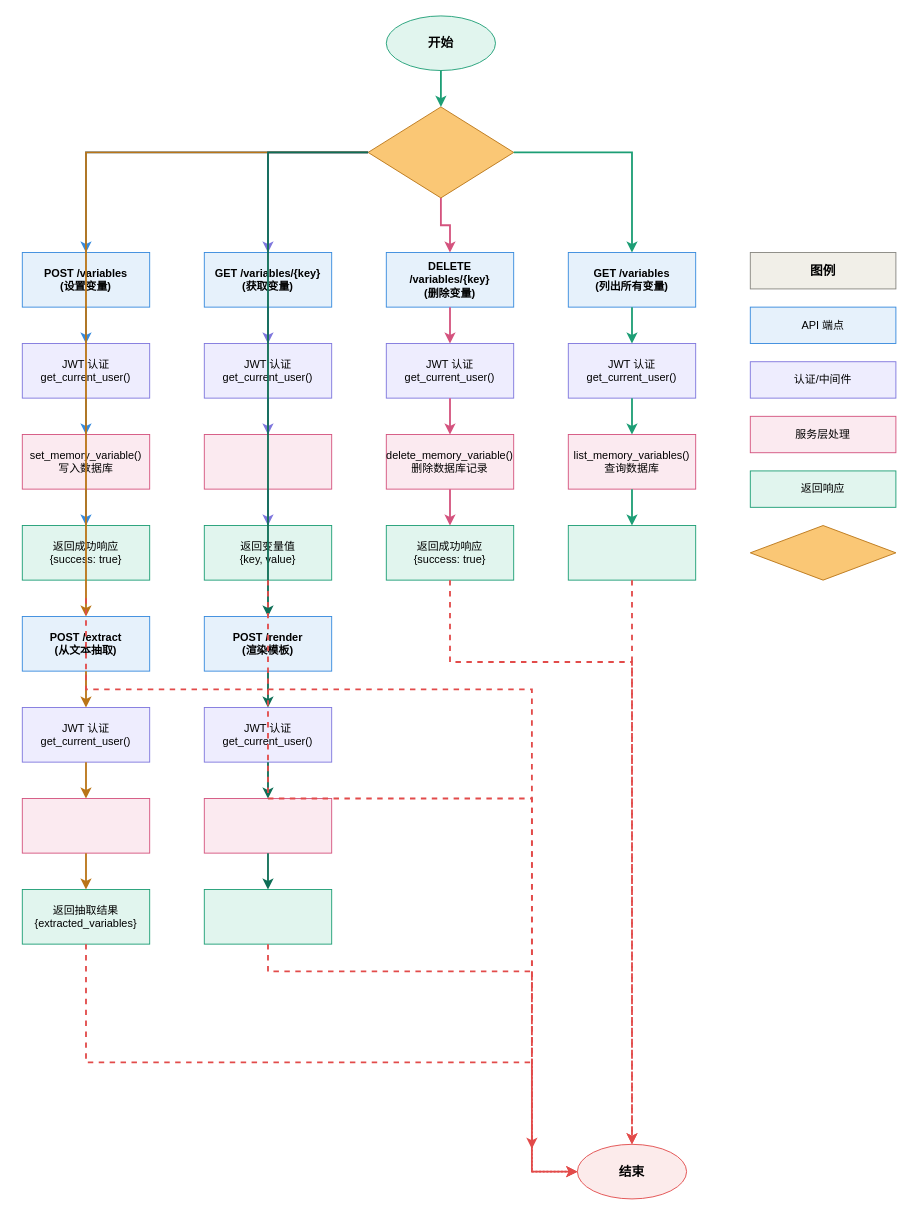
Image size: 912x1215. Some labels were removed from this diagram. Each missing label, with the box of its shape:
extract_variables_from_text() 调用 LLM 分析: (21, 798, 150, 853)
get_memory_variable() 读取数据库: (203, 434, 332, 489)
render_template() 替换变量占位符: (203, 798, 332, 853)
判断节点: (749, 525, 896, 580)
返回变量字典 {variables, count}: (567, 525, 696, 580)
返回渲染文本 {rendered}: (203, 889, 332, 944)
选择 API 操作: (367, 106, 514, 198)
